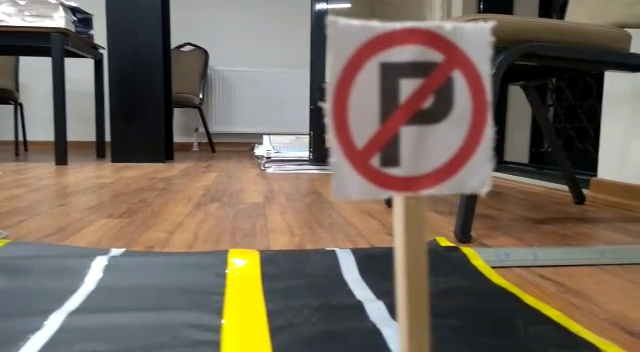park_yapilmaz: (331, 21, 493, 196)
